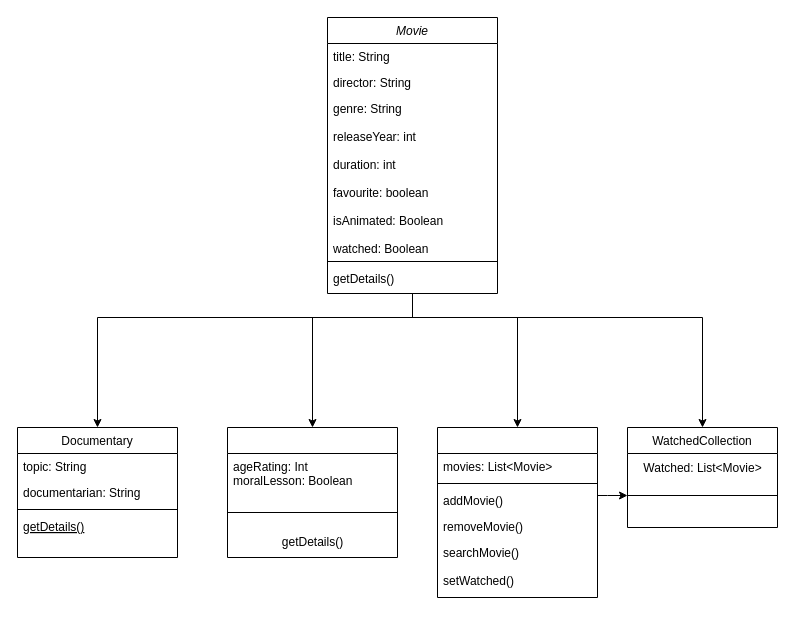
Some shapes in this 795 by 618 pixel diagram are drawn without their labels. The shapes that lost their labels are listed below. From the top down, each one's box as (x1, y1, x2, y2) in pixels, then its label:
(226, 426, 398, 558): KidsMovie
(436, 426, 598, 598): Collection
